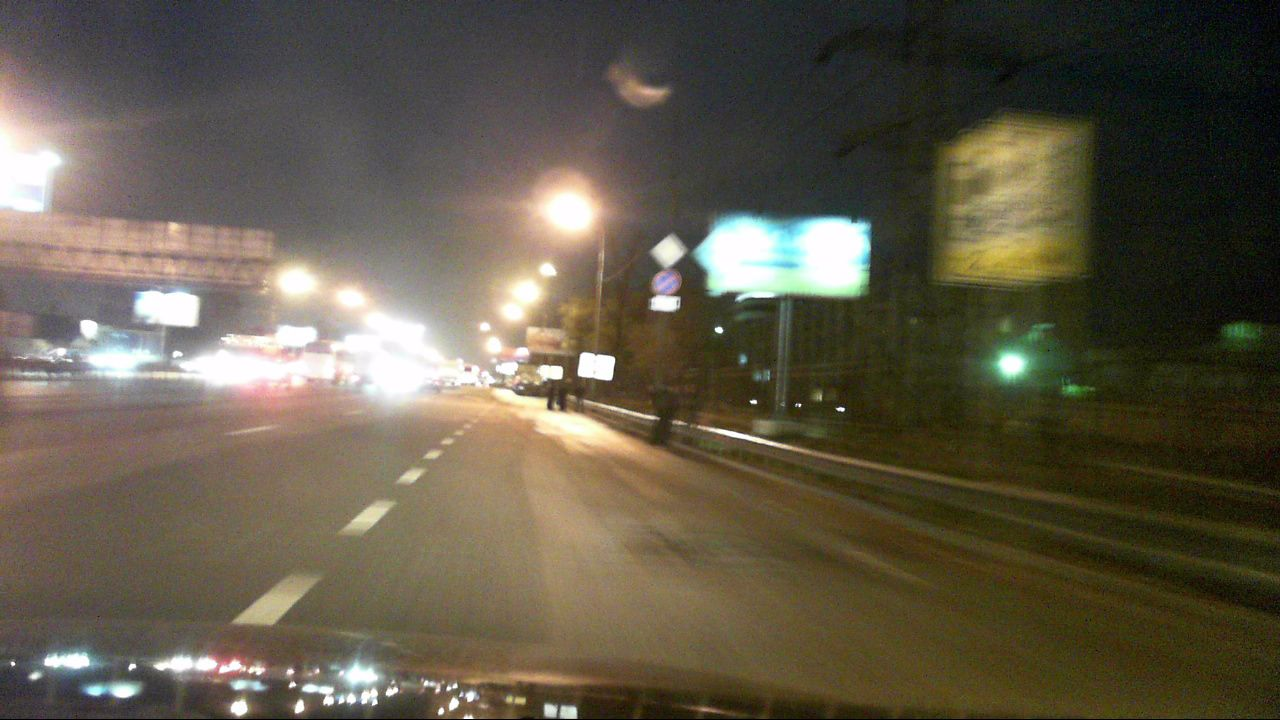No Parking: (651, 269, 682, 295)
